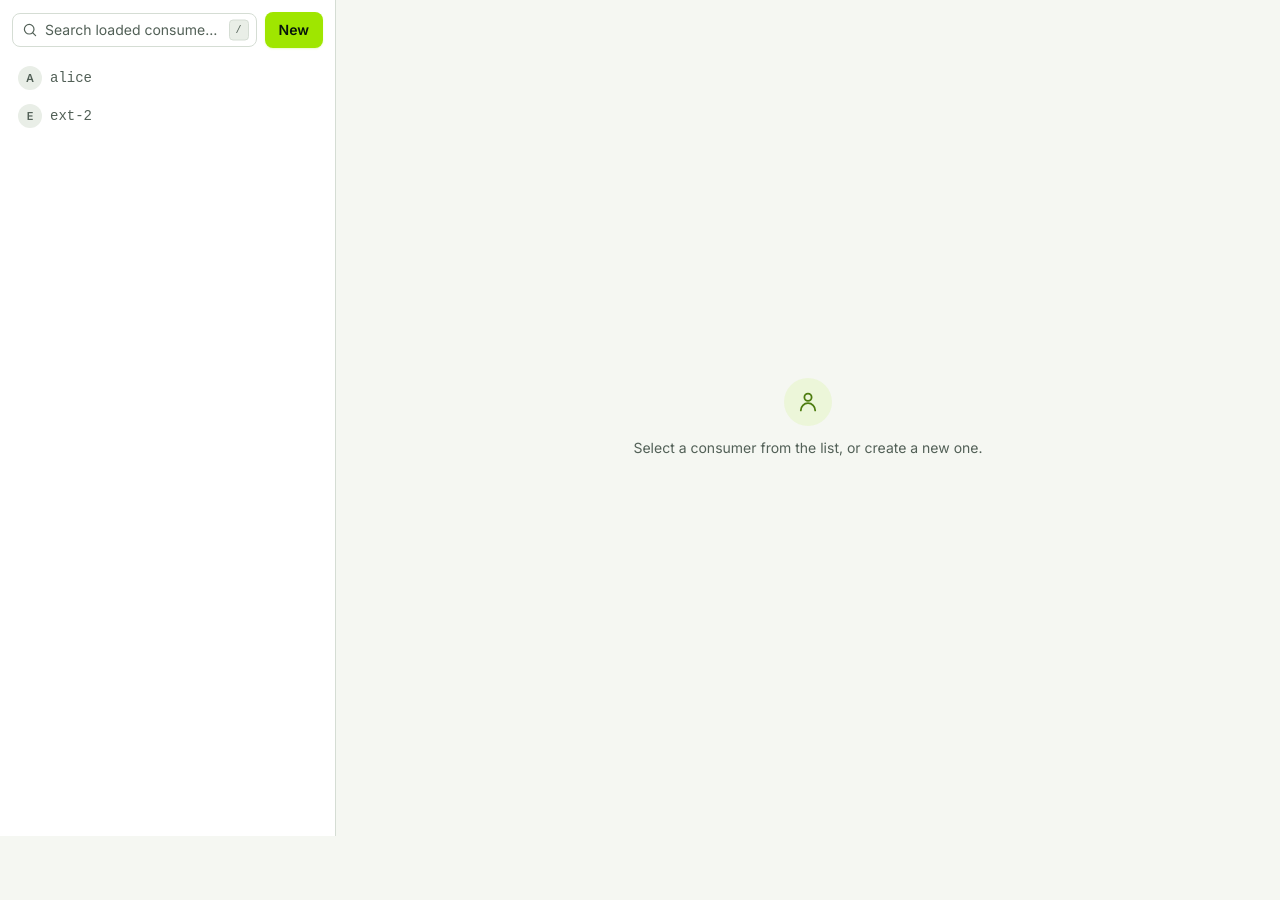
Test: LiveConsumersView › shows Kong field errors in the banner and keeps the form open
Click the button "New" at (294,30), box [264,12,323,48]
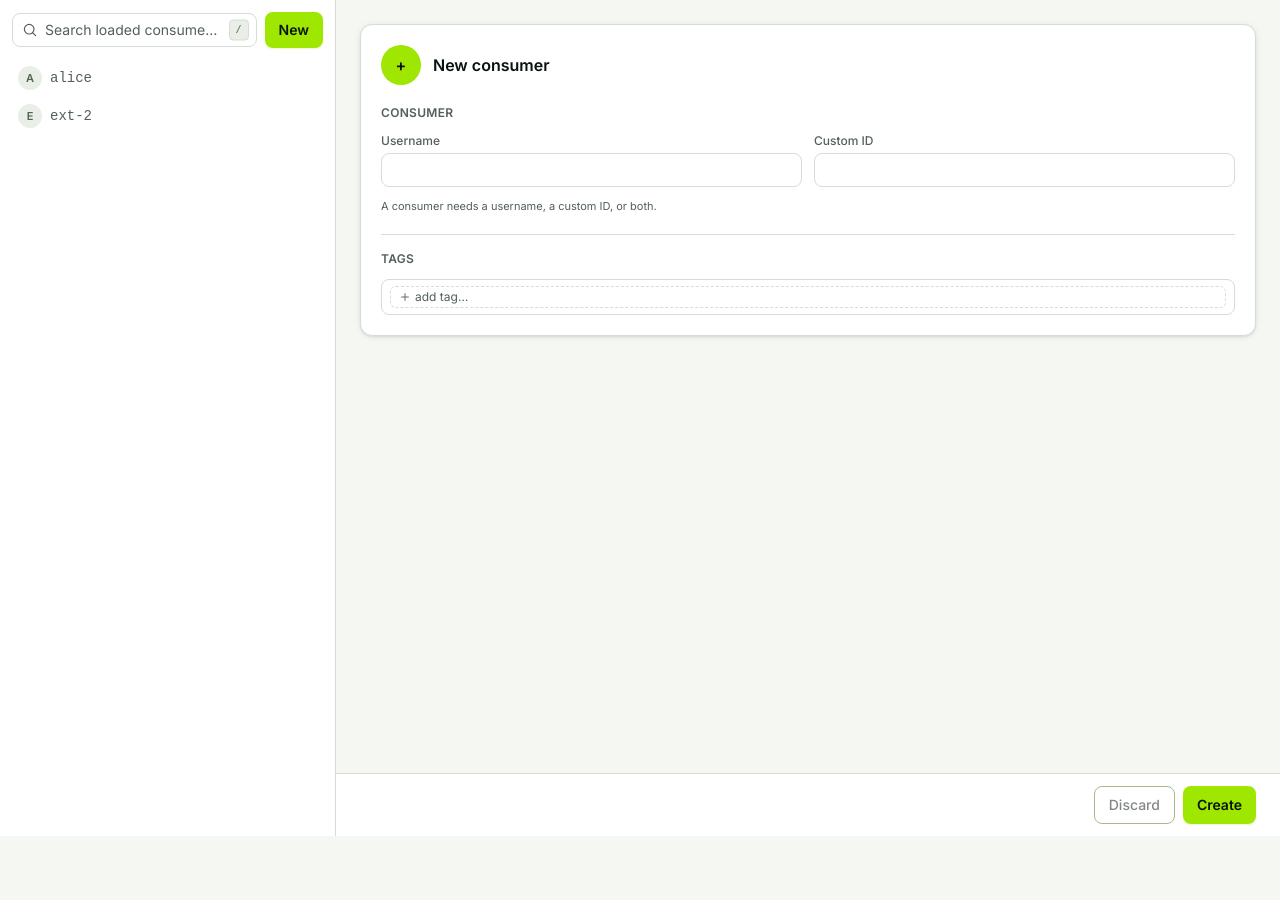
Type "alice" into the field with test id "consumer-username" at (592,170), box [381,153,802,187]
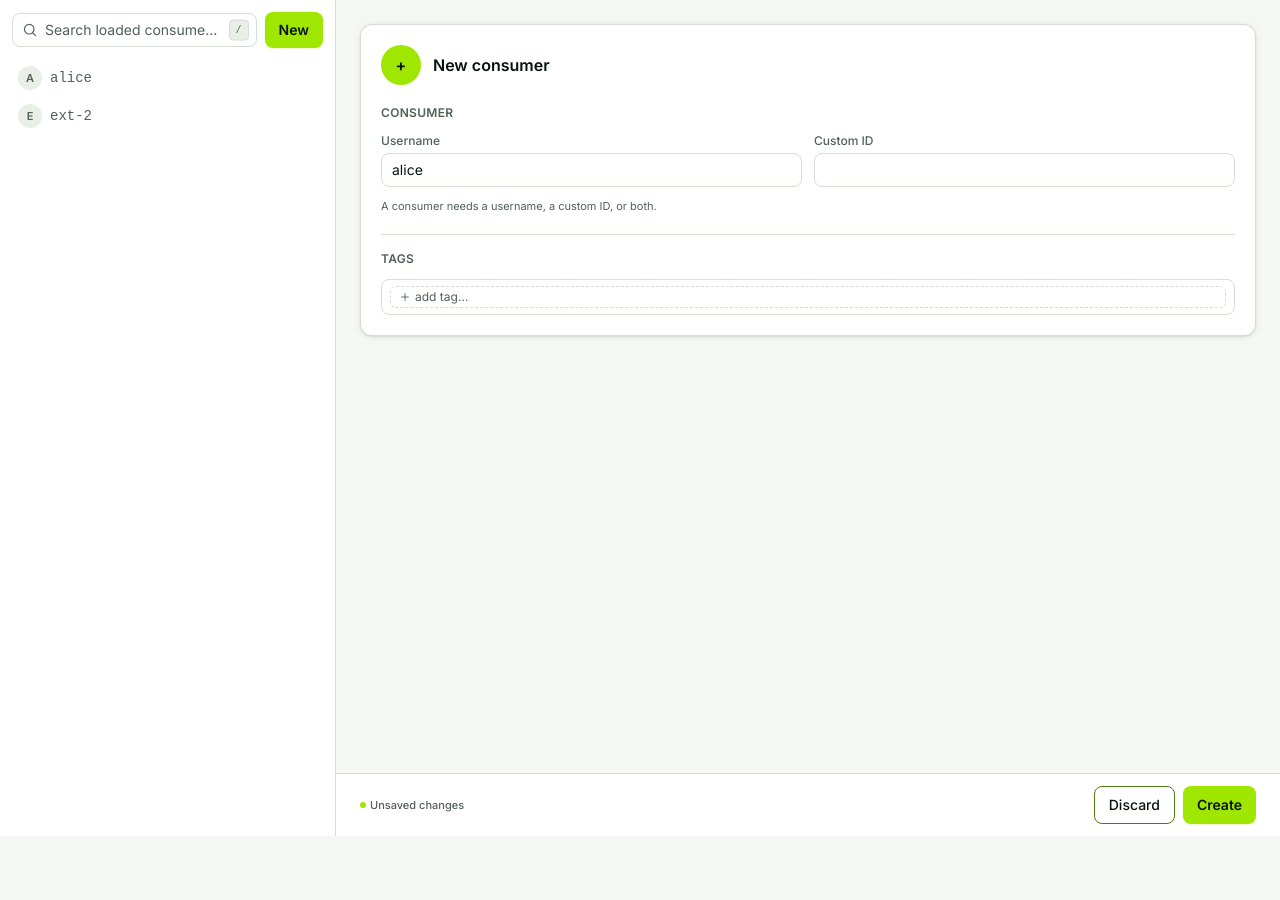
Click the button "Create" at (1219,805), box [1183,786,1256,824]
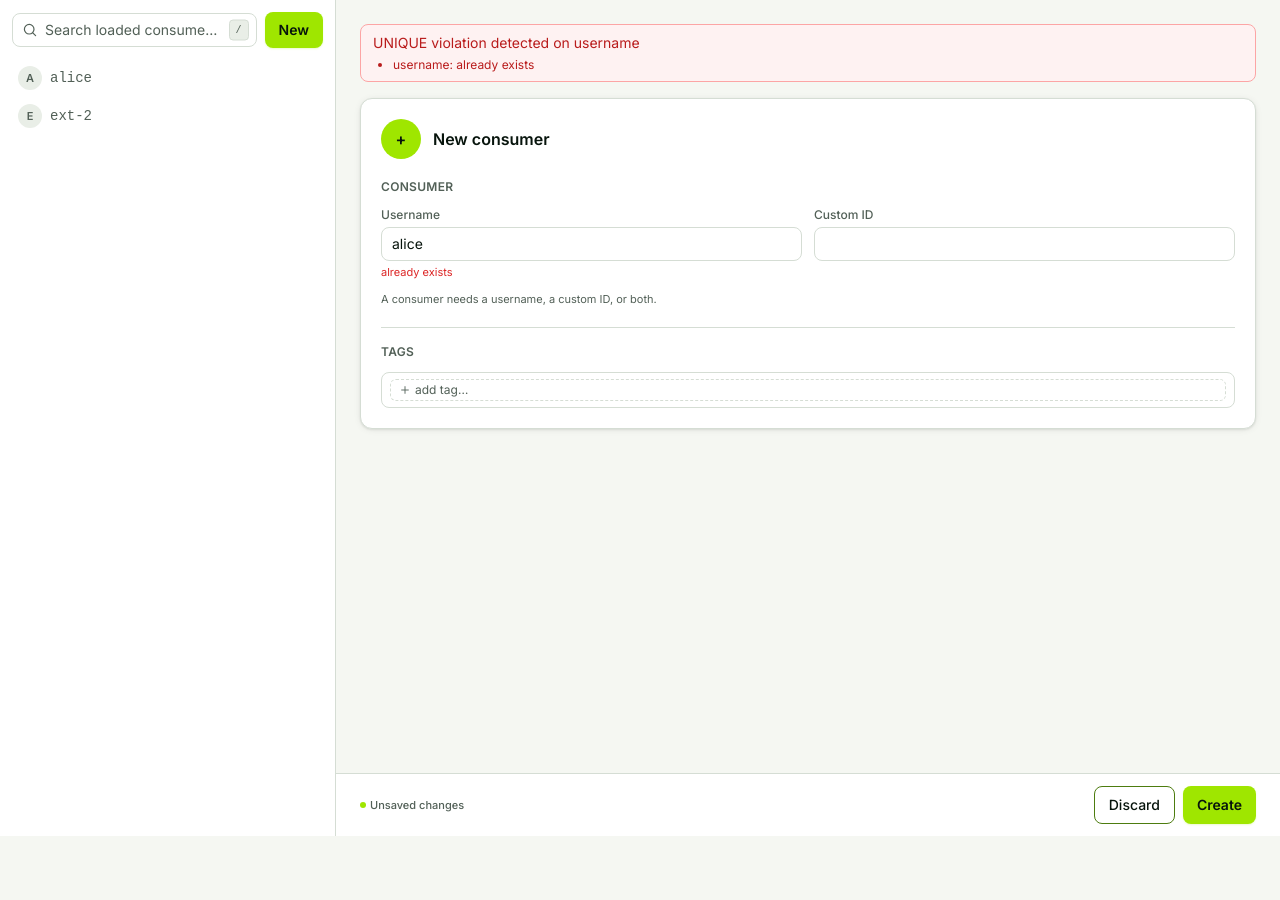
Expected: the text "alice" is shown, [50,70,92,86]
Now the message "UNIQUE violation detected on username username: already exists" is shown, box [360,24,1256,82]
Now the text "already exists" is shown, box [393,57,534,72]
